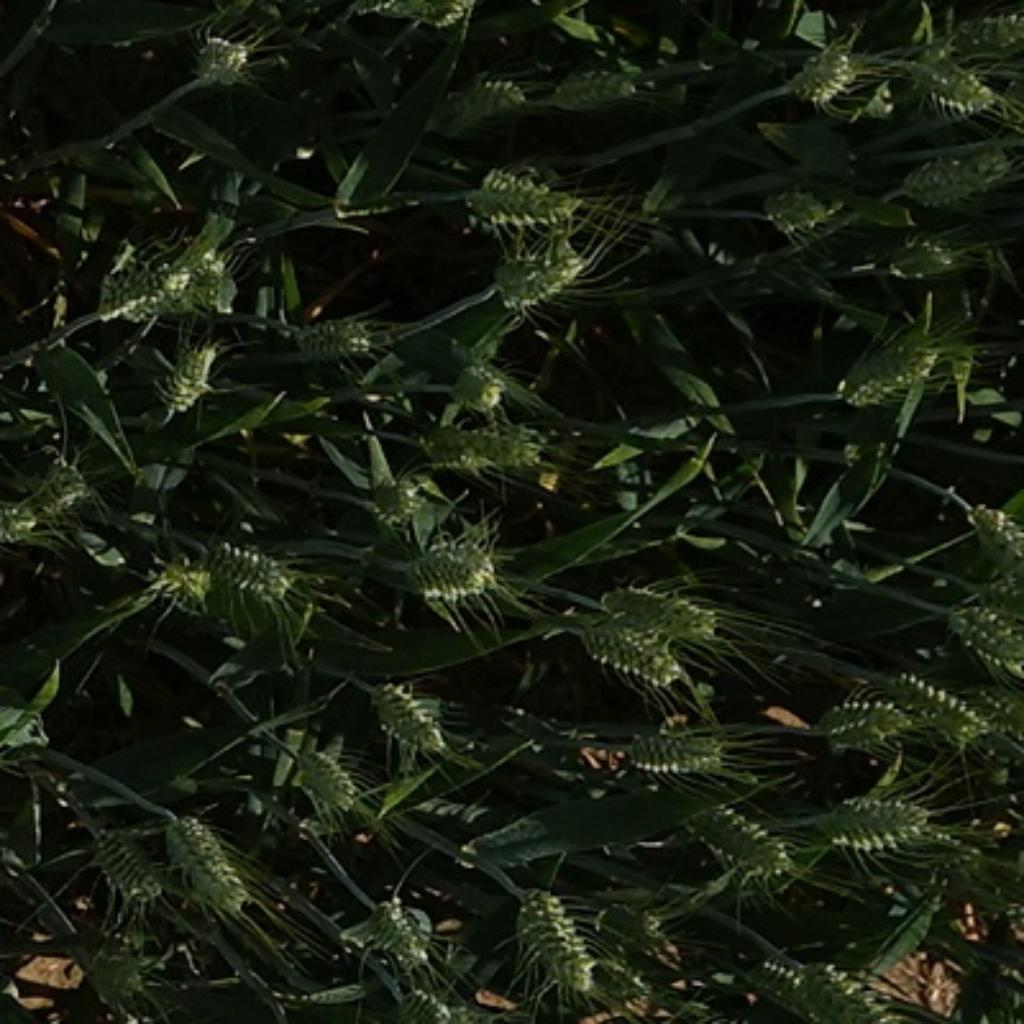0-0: (826, 314, 949, 409), (504, 875, 601, 993), (830, 783, 971, 862), (156, 798, 250, 908), (565, 611, 693, 691), (407, 412, 558, 478), (678, 793, 791, 880), (586, 576, 727, 645), (401, 522, 510, 608), (464, 162, 587, 234), (488, 230, 595, 312), (133, 533, 226, 627), (79, 256, 197, 330), (898, 138, 1024, 207), (908, 50, 1013, 132), (358, 668, 453, 757), (886, 665, 993, 742), (883, 222, 993, 296), (68, 924, 163, 1008), (896, 817, 992, 897), (84, 819, 174, 903), (611, 716, 732, 778), (276, 732, 363, 816), (220, 537, 313, 613), (586, 896, 691, 962), (273, 304, 381, 368), (936, 601, 1023, 680), (821, 951, 915, 1023), (359, 897, 443, 977), (755, 168, 847, 238), (814, 691, 911, 757), (785, 33, 867, 107), (545, 56, 647, 112), (435, 66, 535, 122), (153, 335, 222, 414), (28, 450, 97, 529), (363, 468, 444, 534), (730, 944, 819, 1003), (958, 500, 1024, 579), (377, 974, 479, 1024), (180, 25, 260, 87), (176, 245, 245, 314), (350, 0, 494, 33), (441, 358, 502, 427), (946, 6, 1024, 55), (0, 494, 50, 552)
